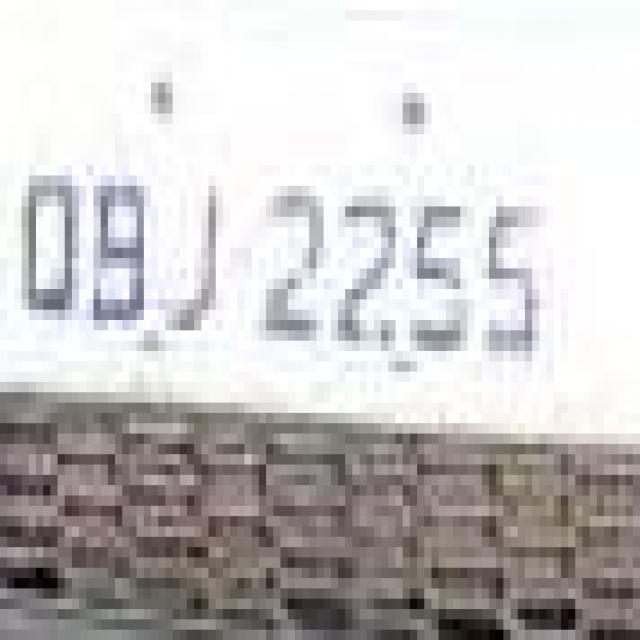5: (472, 189, 554, 380), (402, 200, 480, 363)
B: (90, 177, 148, 336)
J: (164, 168, 224, 342)
Q: (21, 180, 80, 331)
